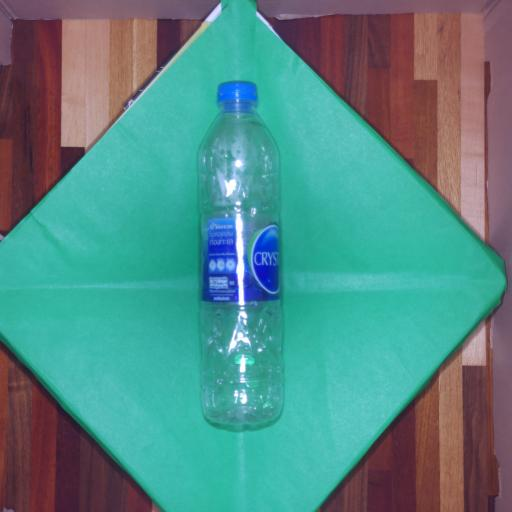bottle: (199, 83, 282, 425)
